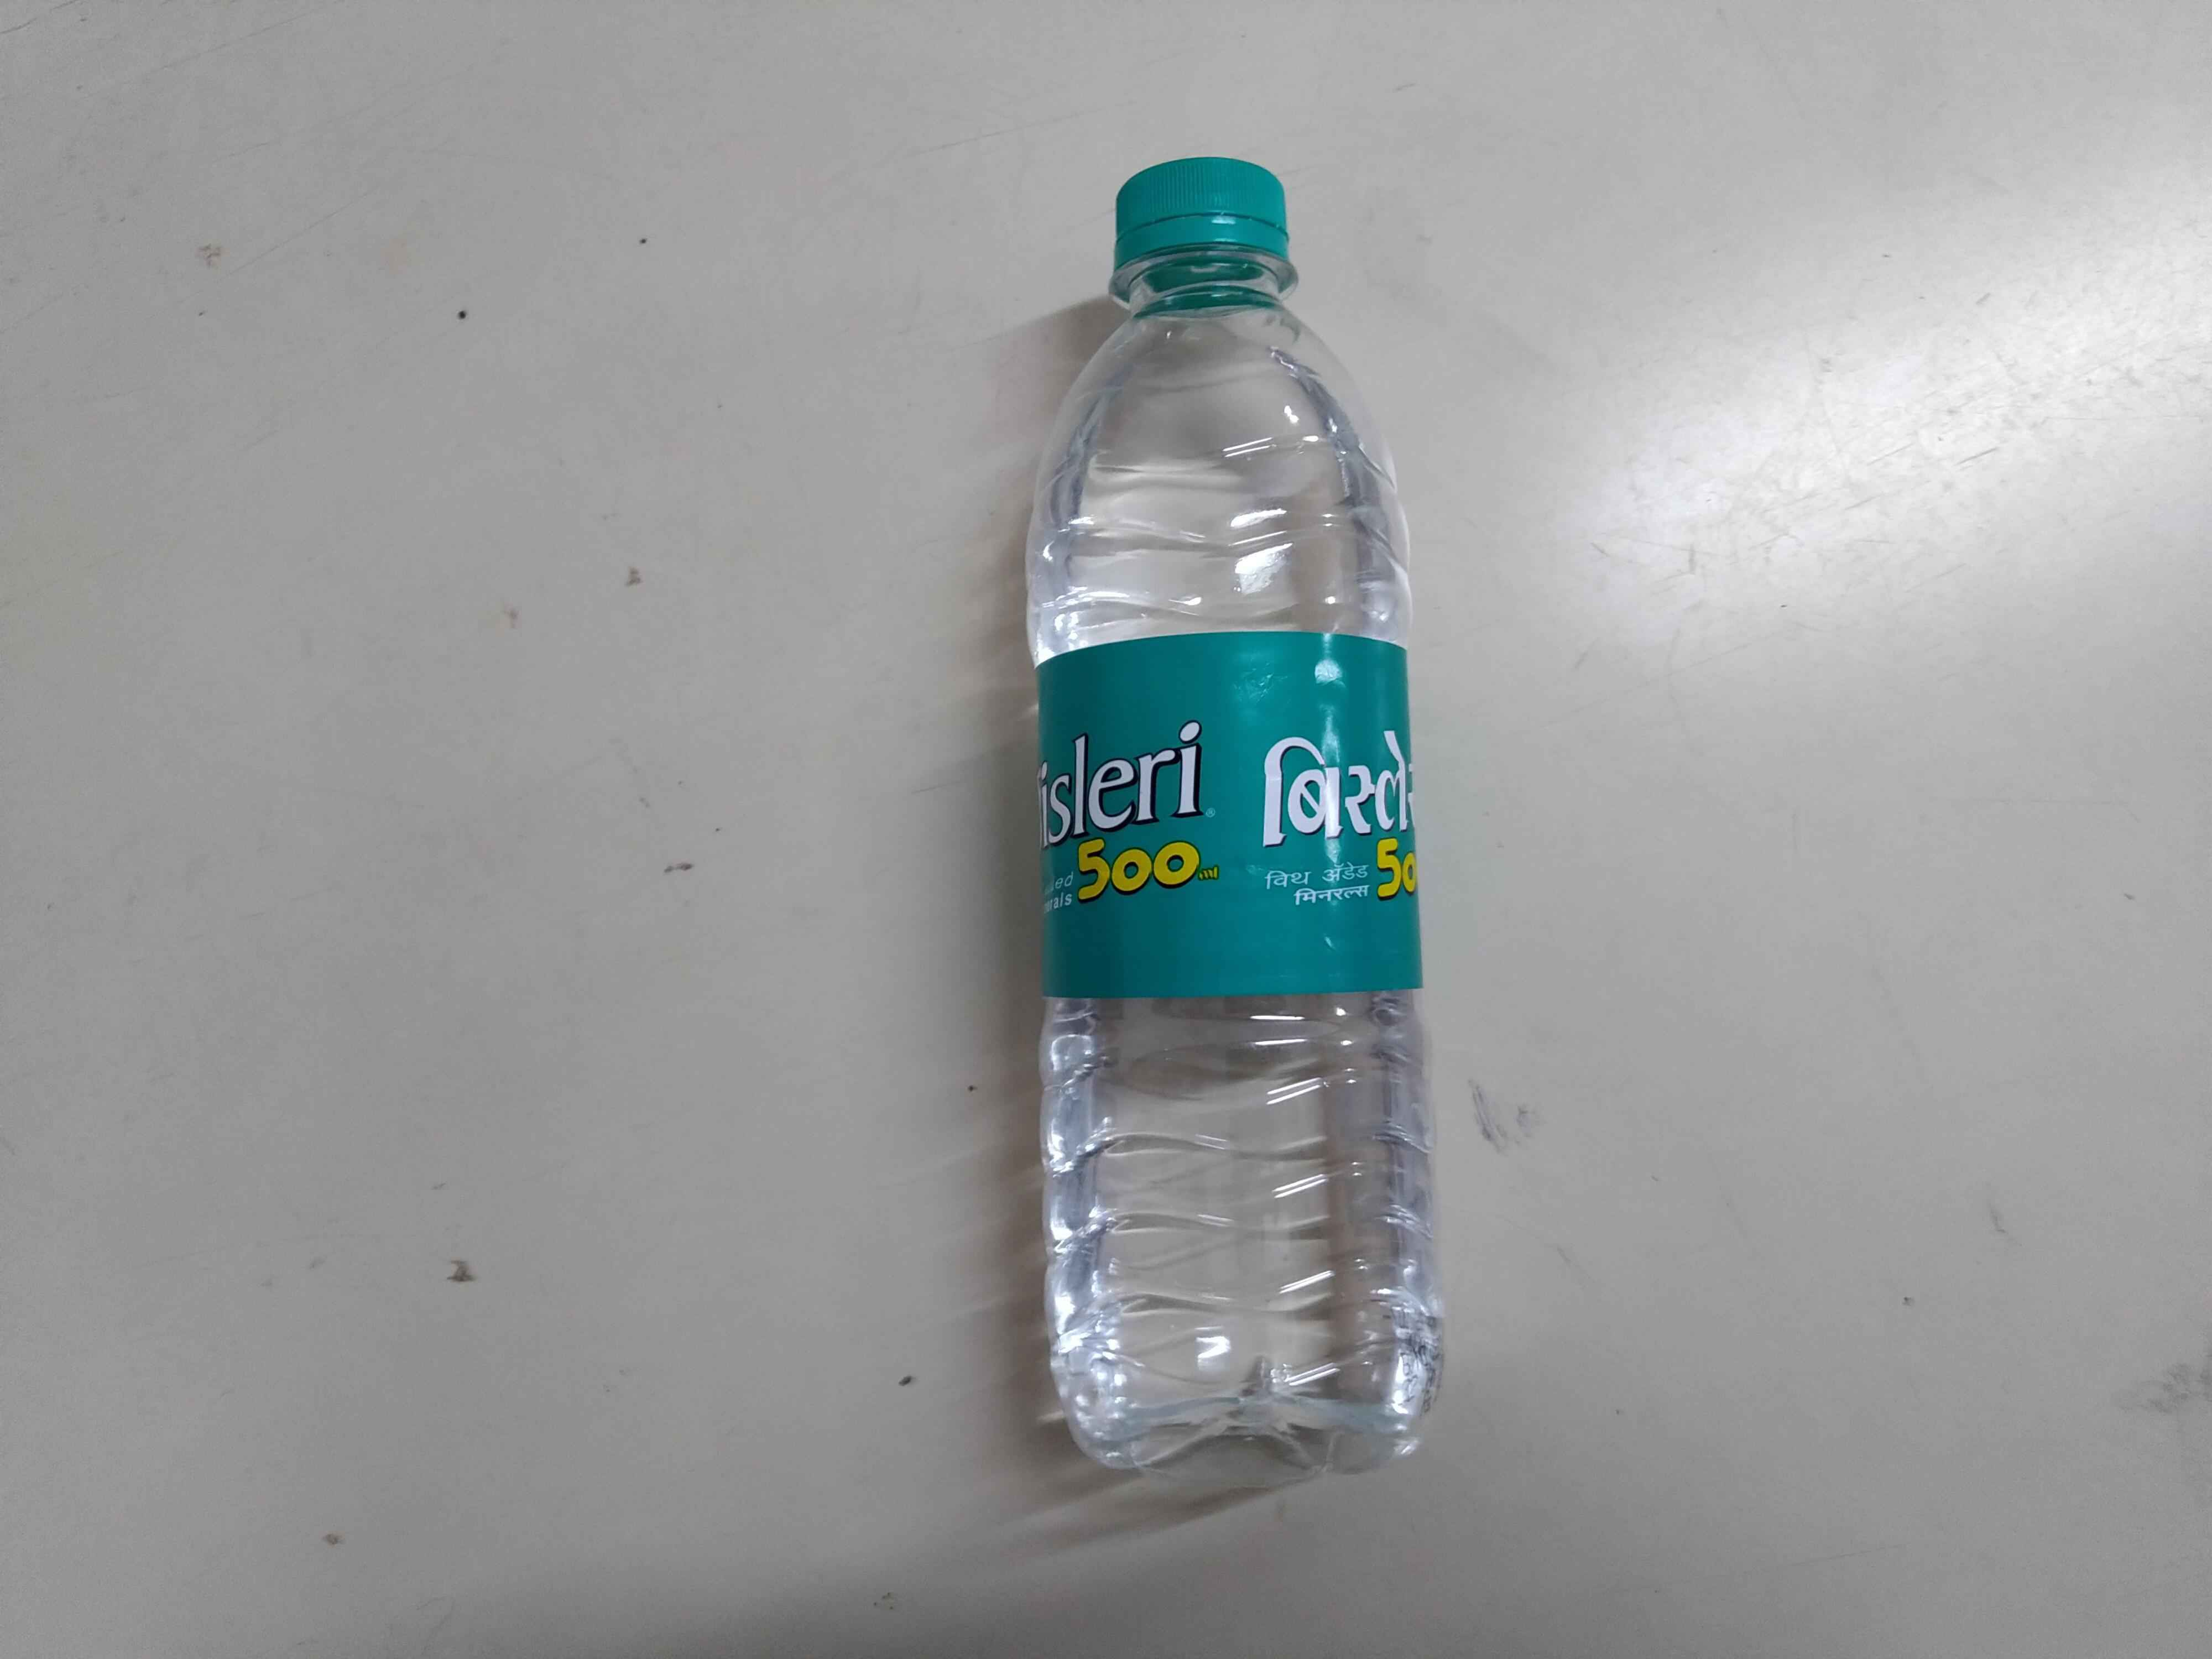Bisleri: (1035, 647, 1426, 985)
